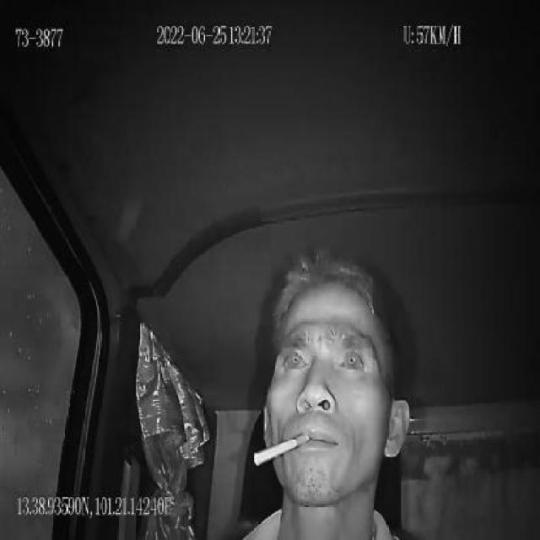smoking: (252, 433, 310, 469)
